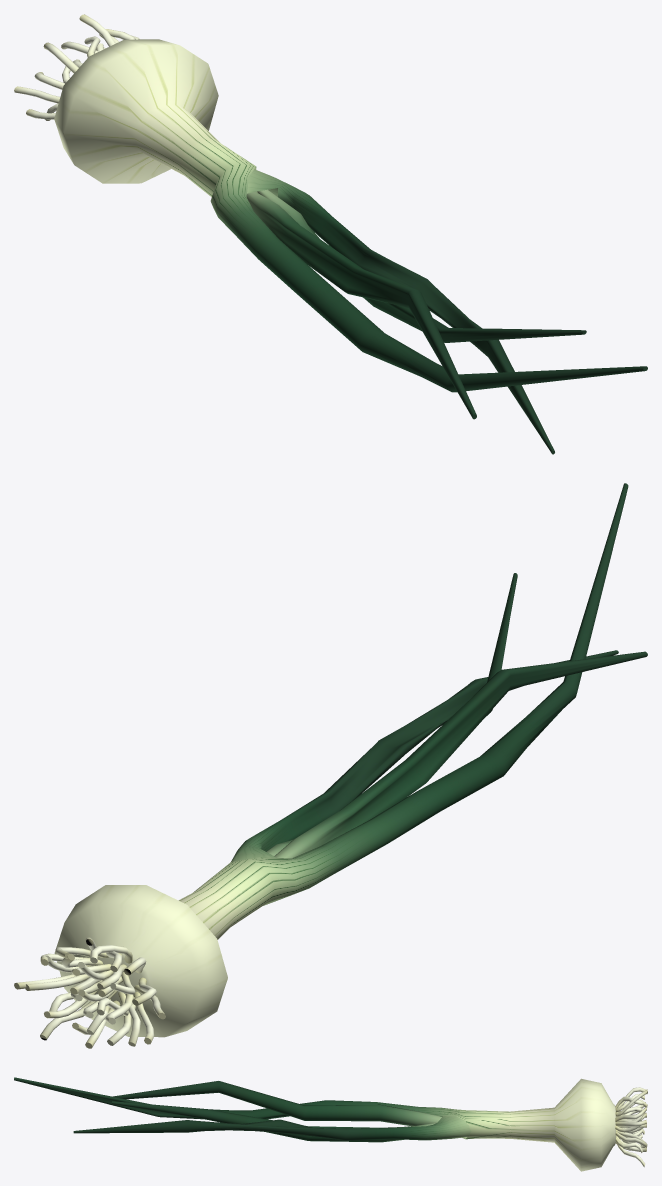
Rendered from Onion_green.obj.
3 views of the same model, one above another, from view 1: azimuth 30°, elevation 25°; view 2: azimuth 150°, elevation 25°; view 3: azimuth 270°, elevation 25° (orthographic). The views are drawn at different scales.
Visible parts, largest first — view 1: Onion_green_06; view 2: Onion_green_06; view 3: Onion_green_06.
Part boxes in pixels (x1=…): Onion_green_06: x1=14, y1=14, x2=647, y2=454; Onion_green_06: x1=14, y1=483, x2=647, y2=1048; Onion_green_06: x1=14, y1=1077, x2=647, y2=1171.
Bounding box in the file's own units: 1 × 1 × 6.
Materials: 1 (1 with a texture image).
